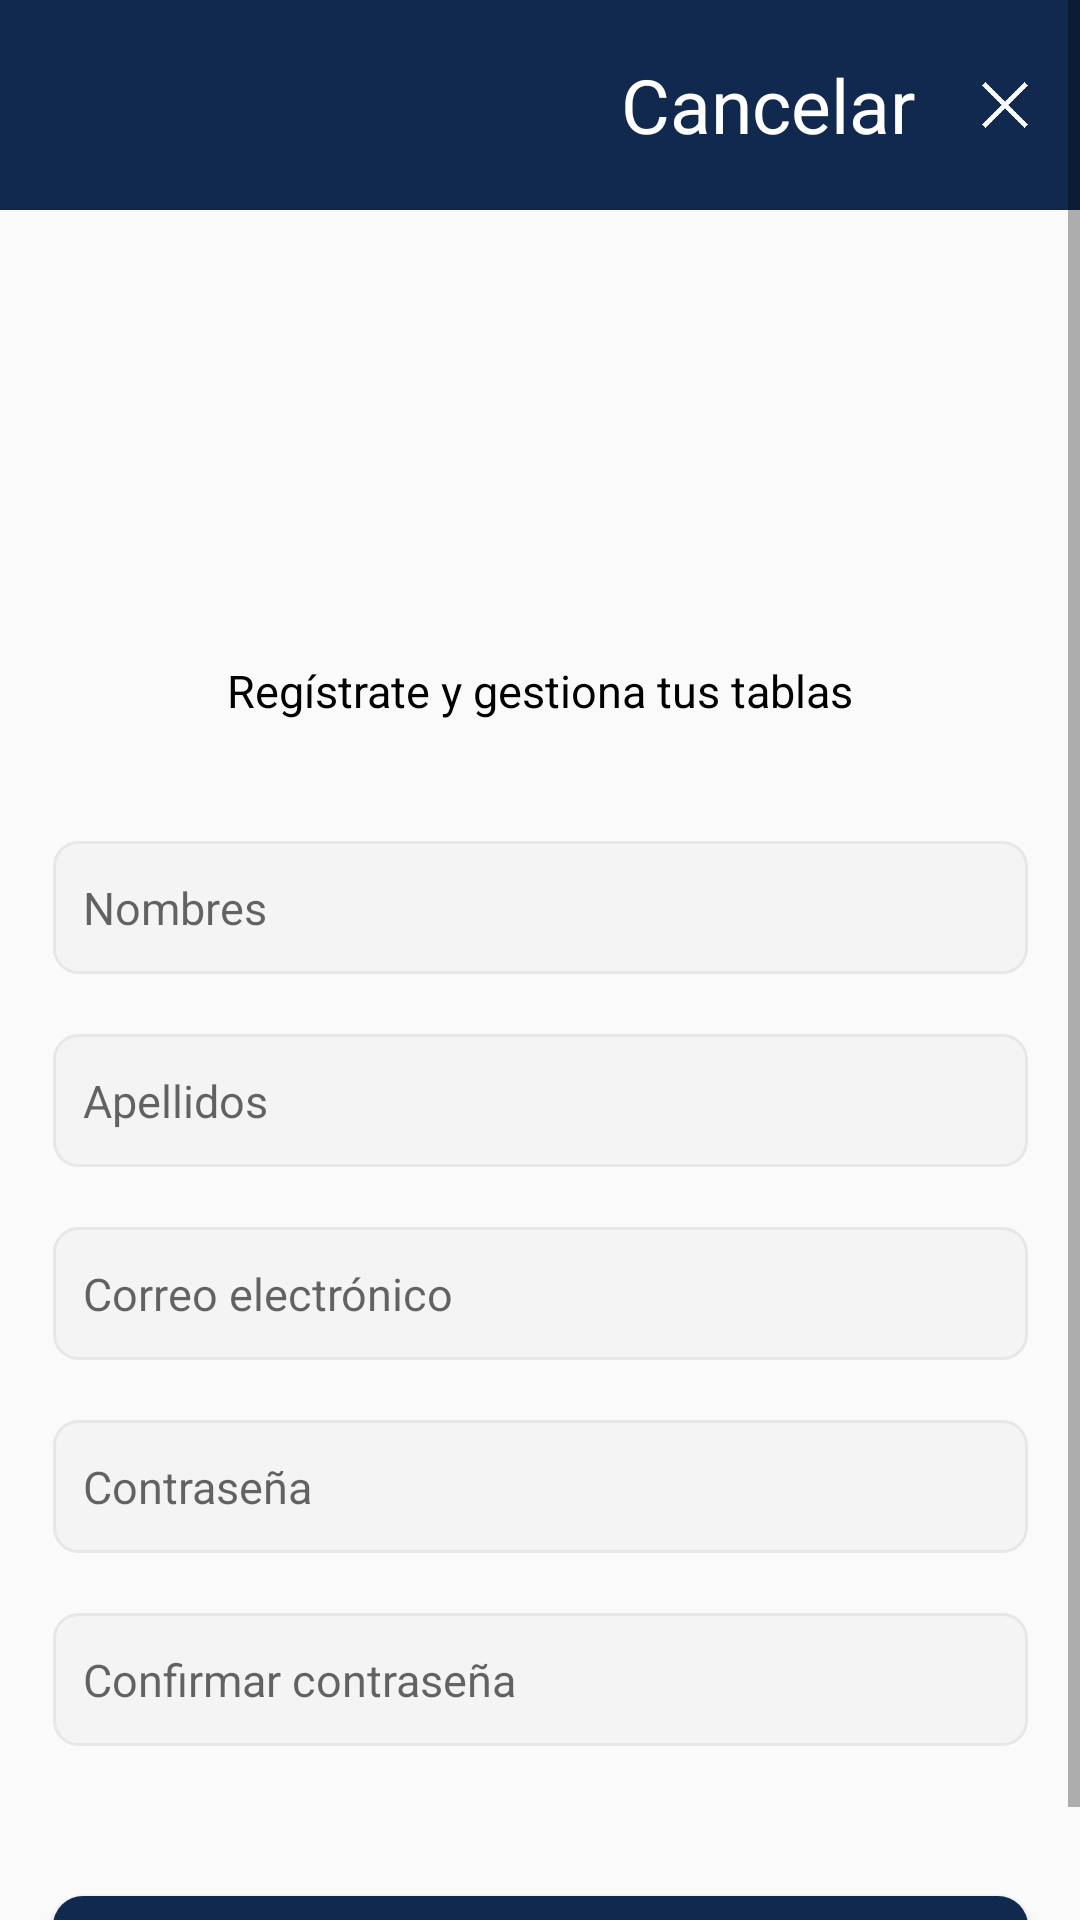

Icon click points for this 1080w x 1920h phone screenshot, format point (x, y):
cancelx: point (1005, 105)
